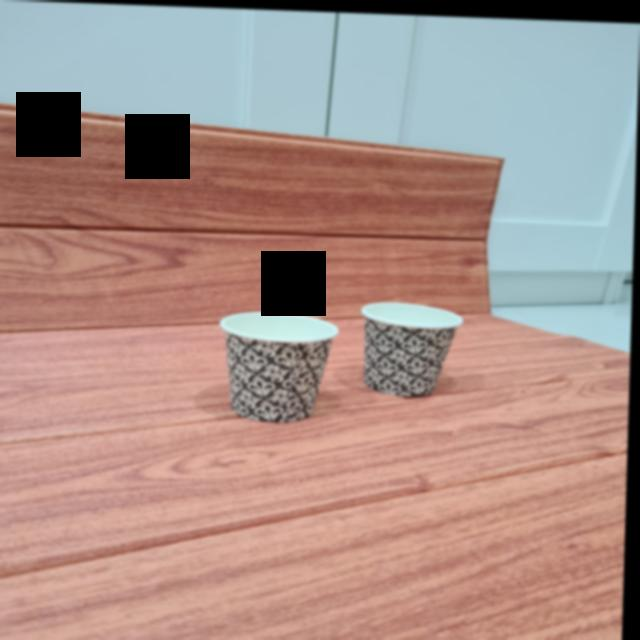cups: (220, 308, 338, 424), (360, 296, 461, 395)
